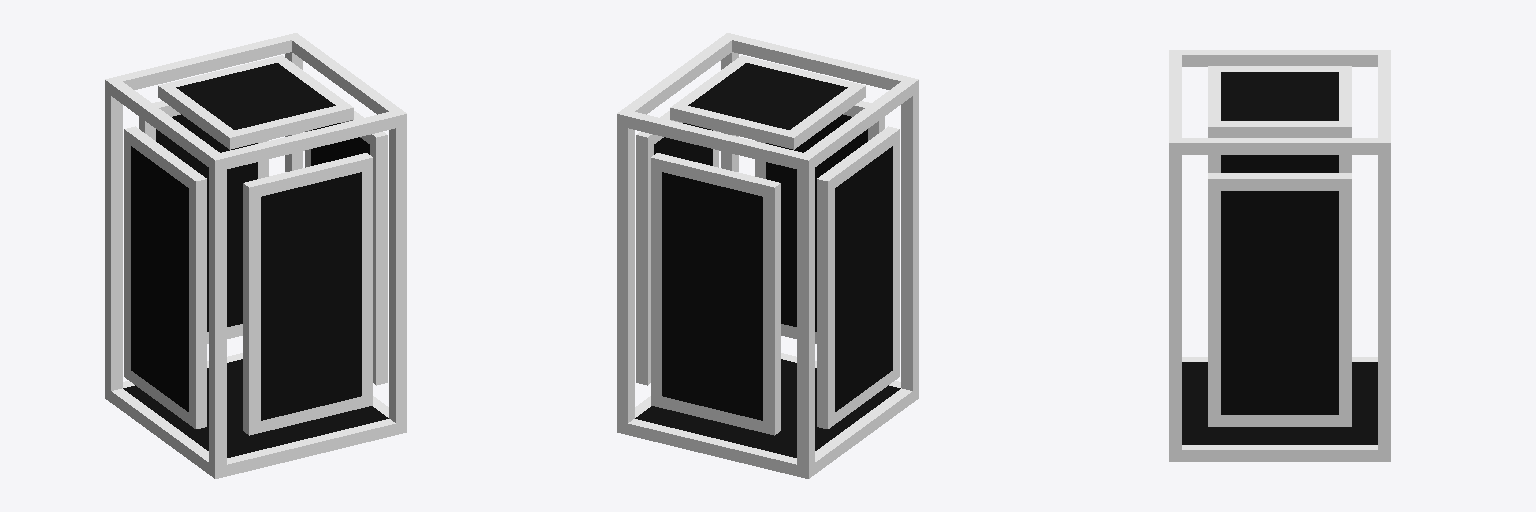
3 renders of one model, left to right at view 1: azimuth 30°, elevation 25°; view 2: azimuth 150°, elevation 25°; view 3: azimuth 270°, elevation 25°, orthographic.
Size of the model in its own units: 17 by 27 by 17.
Materials: 1 (1 with a texture image).